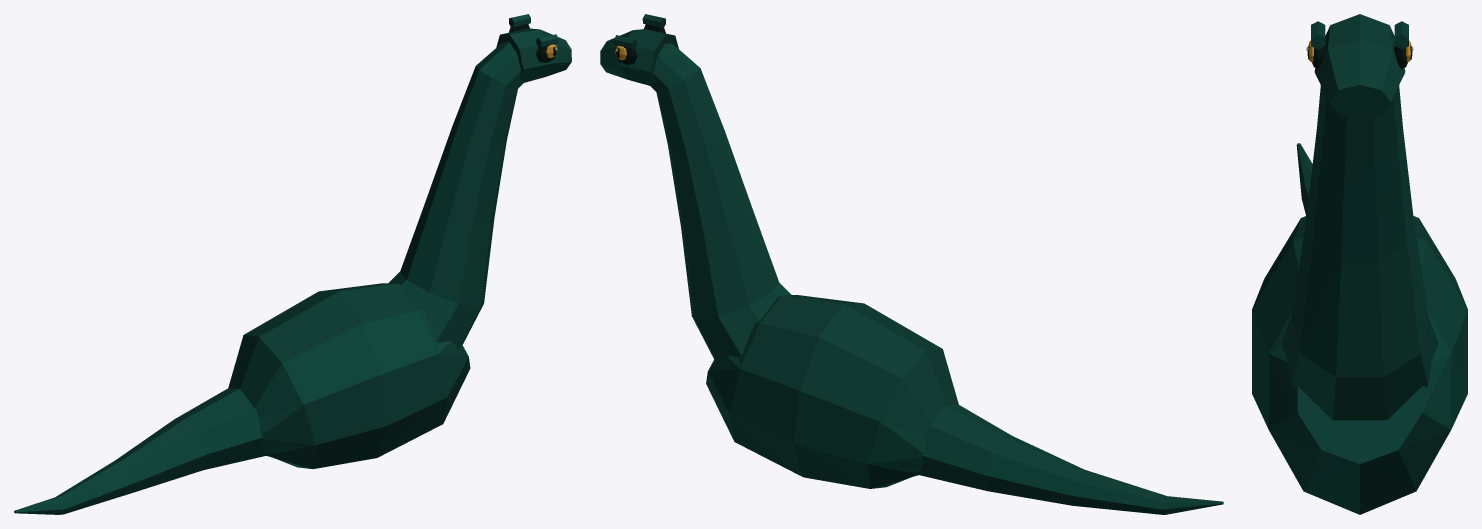
The model's file is SM_brachiosaurus_Body.fbx.
3 renders of one model, left to right at view 1: azimuth 30°, elevation 25°; view 2: azimuth 150°, elevation 25°; view 3: azimuth 270°, elevation 25°, orthographic. The views are drawn at different scales.
Visible parts, largest first — view 1: SM_brachiosaurus_Body export; view 2: SM_brachiosaurus_Body export; view 3: SM_brachiosaurus_Body export.
Boxes of the visible parts, left/top/right/bottom form: SM_brachiosaurus_Body export: left=14, top=14, right=571, bottom=514; SM_brachiosaurus_Body export: left=600, top=14, right=1223, bottom=514; SM_brachiosaurus_Body export: left=1252, top=14, right=1467, bottom=514.
Bounding box in the file's own units: 1148 × 247 × 747.
